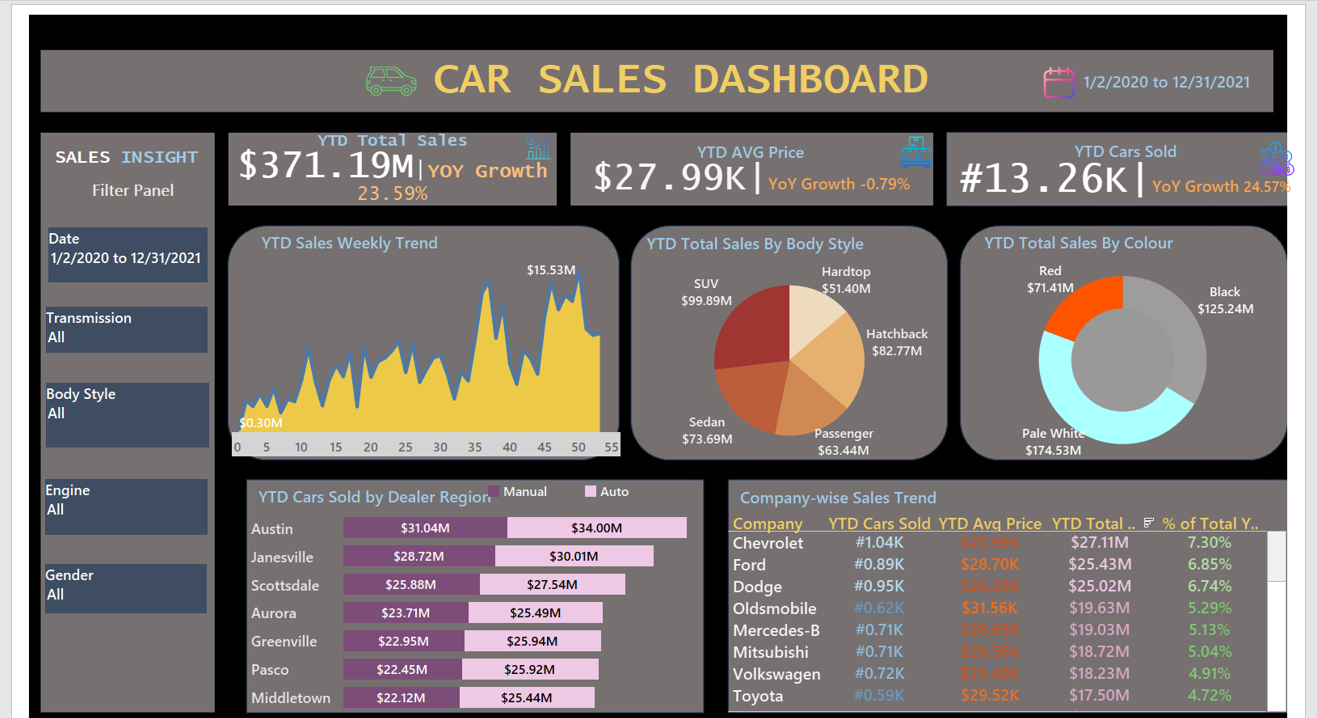

The page's visual inventory and layout, read from the dashboard file:
{"tool":"tableau","page":{"name":"Dashboard 1","canvas":[1600,900],"ordinal":0},"visuals":[{"type":"image","param":"C:/Users/Ajeet/OneDrive/Documents/Tablea Project/Car Sales/Car Sales.jpg","box":[8,8,1584,884]},{"type":"text","box":[18,18,211,30]},{"type":"text","box":[18,18,211,30]},{"type":"text","box":[18,18,211,30]},{"type":"text","box":[382,56,890,74]},{"type":"image","param":"C:/Users/Ajeet/OneDrive/Documents/Tablea Project/Car Sales/Car Icon.png","box":[424,57,91,74]},{"type":"worksheet","title":"Date Range","mark":"Automatic","box":[1301,67,258,55]},{"type":"image","param":"C:/Users/Ajeet/OneDrive/Documents/Tablea Project/Car Sales/calendar.png","box":[1274,74,43,44]},{"type":"worksheet","title":"YTD Cars Sold","mark":"Automatic","box":[1153,156,451,98]},{"type":"worksheet","title":"YTD Total Sales","mark":"Automatic","box":[268,157,406,91]},{"type":"image","param":"C:/Users/Ajeet/OneDrive/Documents/Tablea Project/Car Sales/Sales Icon.png","box":[629,157,44,36]},{"type":"worksheet","title":"YTD Avg Price","mark":"Automatic","box":[688,158,454,90]},{"type":"image","param":"C:/Users/Ajeet/OneDrive/Documents/Tablea Project/Car Sales/Avg Price Icon.png","box":[1098,159,41,46]},{"type":"image","param":"C:/Users/Ajeet/AppData/Local/Temp/TableauTemp/0qvtajj09smcf913d9est0ikjb3s/Sheet","box":[1544,168,43,44]},{"type":"text","box":[36,174,211,30]},{"type":"text","box":[44,213,211,30]},{"type":"worksheet","title":"YTD Sales weekly Trend","mark":"Area","rows":["Calculation_946600370506014720","Calculation_946600370506014720"],"cols":["Date"],"box":[272,273,481,285]},{"type":"worksheet","title":"YTD Total Sales By Colour","mark":"Pie","rows":["Calculation_1596807580459040772","Calculation_1596807580458983427"],"box":[1172,273,405,290]},{"type":"worksheet","title":"YTD Total Sales By Body Style","mark":"Pie","box":[765,274,394,289]},{"type":"filter","title":"YTD Sales weekly Trend","param":"[federated.0s08ud31ca4jb616imlur031lzmu].[none:Date:qk]","box":[45,275,197,68]},{"type":"filter","title":"YTD Sales weekly Trend","param":"[federated.0s08ud31ca4jb616imlur031lzmu].[none:Transmission:nk]","box":[42,373,200,57]},{"type":"filter","title":"YTD Sales weekly Trend","param":"[federated.0s08ud31ca4jb616imlur031lzmu].[none:Body Style:nk]","box":[42,467,202,80]},{"type":"filter","title":"YTD Sales weekly Trend","param":"[federated.0s08ud31ca4jb616imlur031lzmu].[none:Engine:nk]","box":[41,586,201,69]},{"type":"worksheet","title":"YTD Cars Sold by Dealer Region","mark":"Automatic","rows":["Dealer_Region"],"cols":["Calculation_946600370506014720"],"box":[290,587,566,286]},{"type":"worksheet","title":"Company-wise Sales Trend","mark":"Automatic","rows":["Company"],"box":[886,588,691,286]},{"type":"legend","title":"YTD Cars Sold by Dealer Region","param":"[federated.0s08ud31ca4jb616imlur031lzmu].[none:Transmission:nk]","box":[585,590,343,31]},{"type":"filter","title":"YTD Sales weekly Trend","param":"[federated.0s08ud31ca4jb616imlur031lzmu].[none:Gender:nk]","box":[41,691,200,61]}]}

Visuals, with their boxes in screenshot pixels (x1, y1, x2, y2):
image: 27,13,1271,707
text: 35,21,200,45
text: 35,21,200,45
text: 35,21,200,45
text: 321,51,1020,109
image: 354,52,425,110
"Date Range" worksheet: 1042,59,1245,103
image: 1021,65,1055,100
"YTD Cars Sold" worksheet: 926,129,1280,206
"YTD Total Sales" worksheet: 231,130,550,202
image: 515,130,549,158
"YTD Avg Price" worksheet: 561,131,918,202
image: 883,132,915,168
image: 1233,139,1267,173
text: 49,144,215,167
text: 55,174,221,198
"YTD Sales weekly Trend" worksheet (Area marks): 234,221,612,445
"YTD Total Sales By Colour" worksheet (Pie marks): 941,221,1259,449
"YTD Total Sales By Body Style" worksheet (Pie marks): 621,222,931,449
"YTD Sales weekly Trend" filter: 56,223,211,276
"YTD Sales weekly Trend" filter: 54,300,211,345
"YTD Sales weekly Trend" filter: 54,374,212,436
"YTD Sales weekly Trend" filter: 53,467,211,521
"YTD Cars Sold by Dealer Region" worksheet: 248,468,693,693
"Company-wise Sales Trend" worksheet: 716,469,1259,693
"YTD Cars Sold by Dealer Region" legend: 480,470,749,495
"YTD Sales weekly Trend" filter: 53,550,210,598
